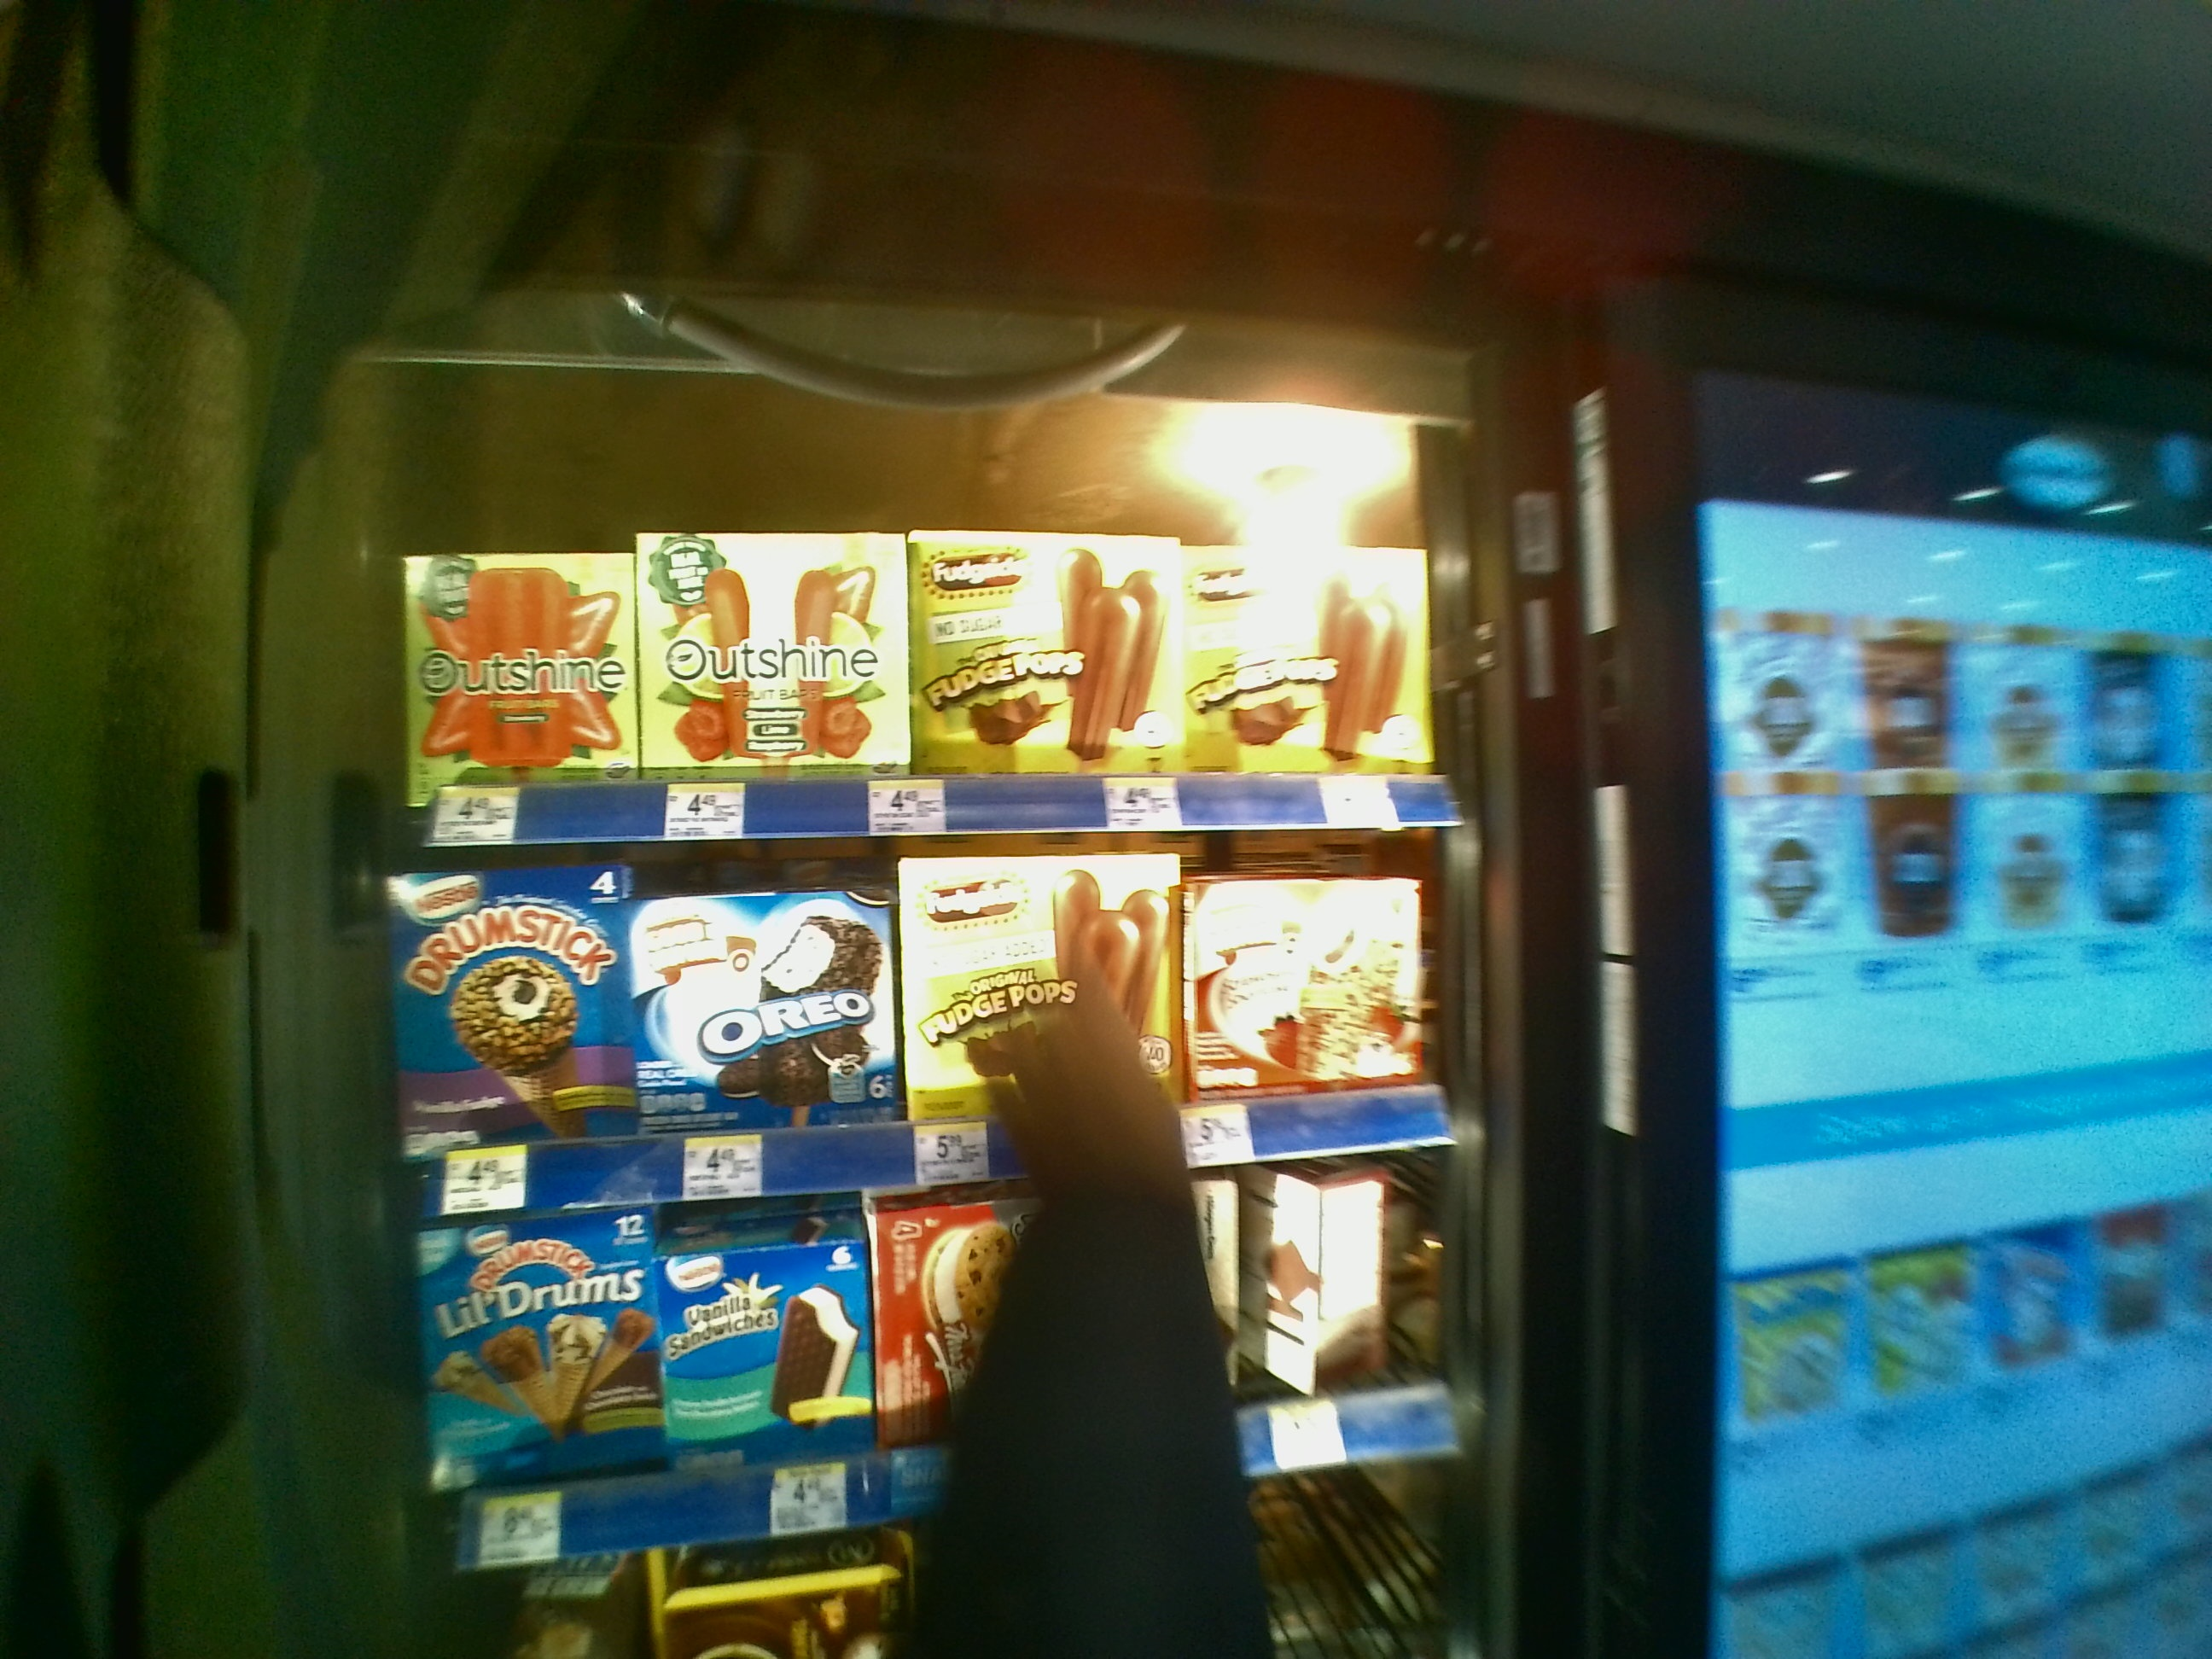shelf: (380, 448, 1460, 842), (371, 857, 1474, 1194), (383, 1223, 1479, 1561)
